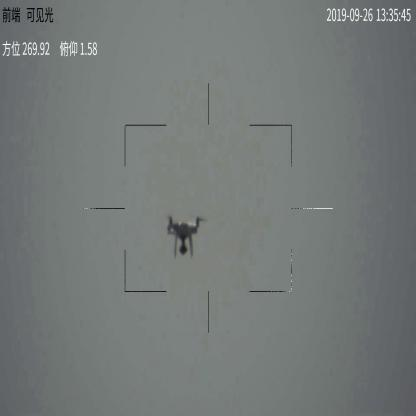uav: (165, 216, 206, 258)
